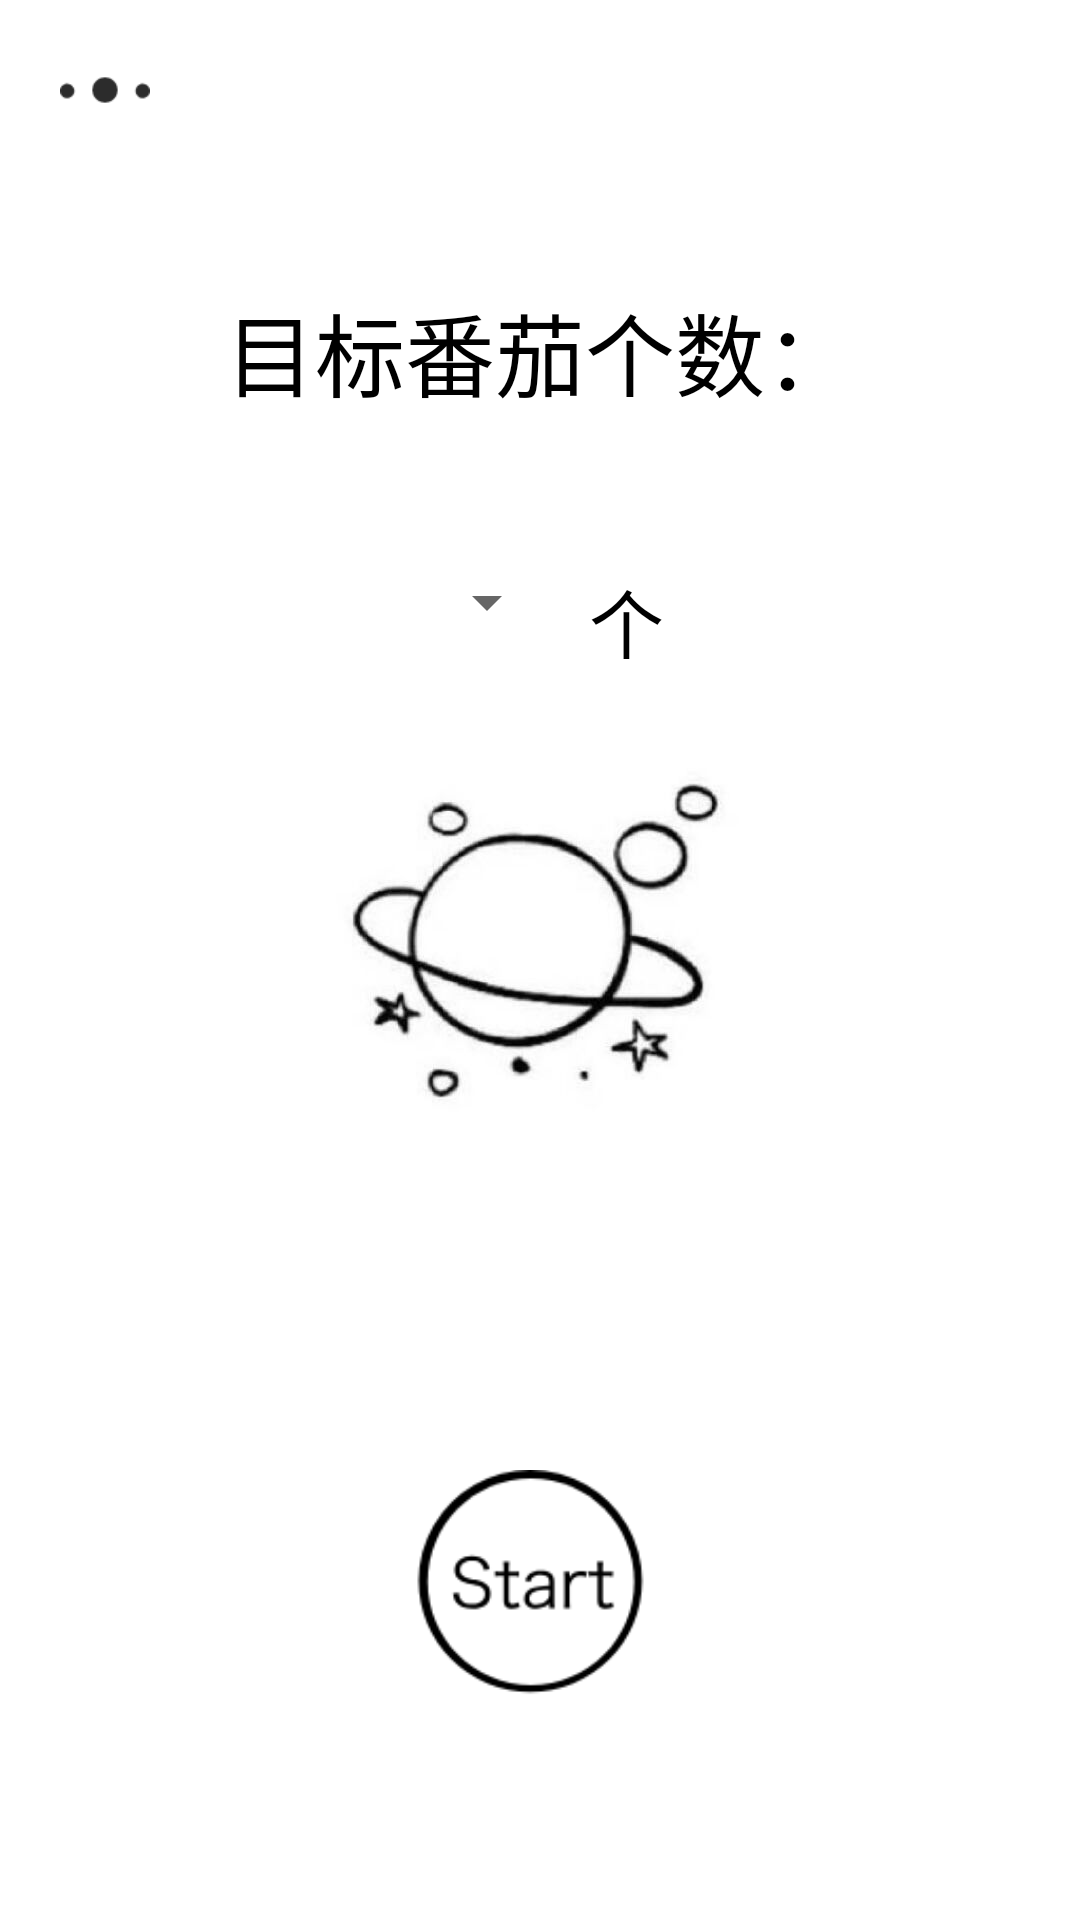

Named icons in this screenshot (1080x1920) and their bounding boxes, (x1, y1, x2, y2):
details: (60, 77, 150, 103)
